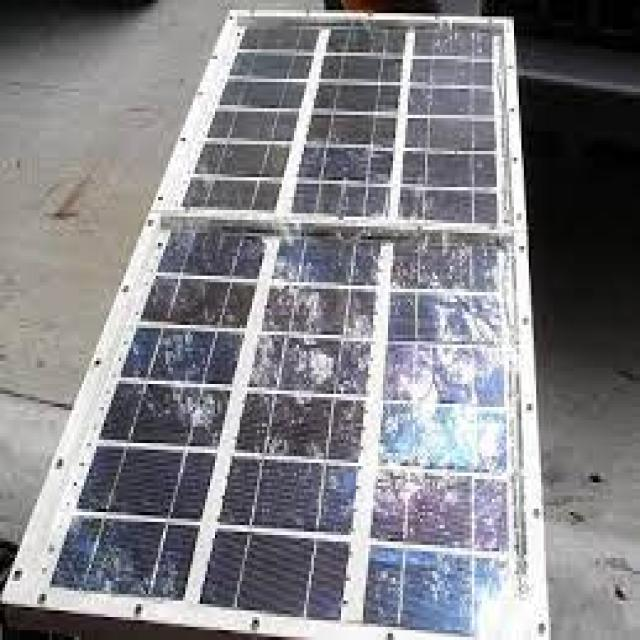faulty: (99, 226, 535, 630), (184, 17, 530, 228)
